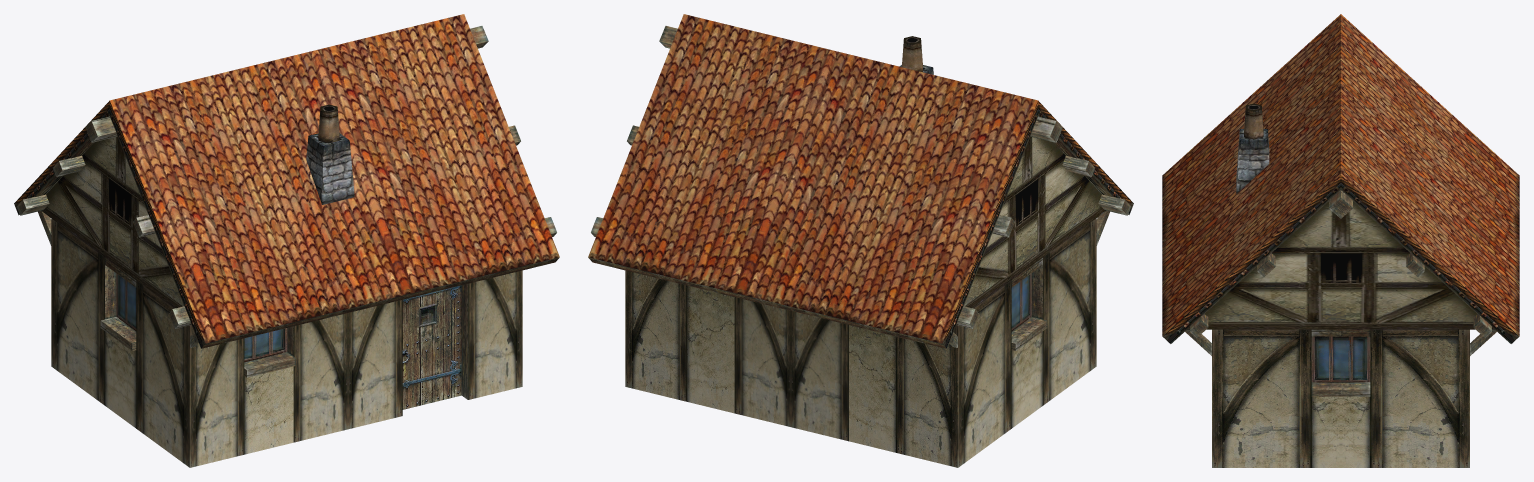
File: S_home17.glb
The picture shows the model from 3 angles, left to right: view 1: azimuth 30°, elevation 25°; view 2: azimuth 150°, elevation 25°; view 3: azimuth 270°, elevation 25°; orthographic projection. The views are drawn at different scales.
Parts seen in each view (by area): view 1: S_home17; view 2: S_home17; view 3: S_home17.
Part boxes in pixels (bbox=[...]): S_home17: bbox=[14, 14, 559, 467]; S_home17: bbox=[588, 14, 1133, 467]; S_home17: bbox=[1162, 14, 1519, 467].
Bounding box in the file's own units: 7.17 × 5.6 × 6.09.
9 materials, 9 textured.
